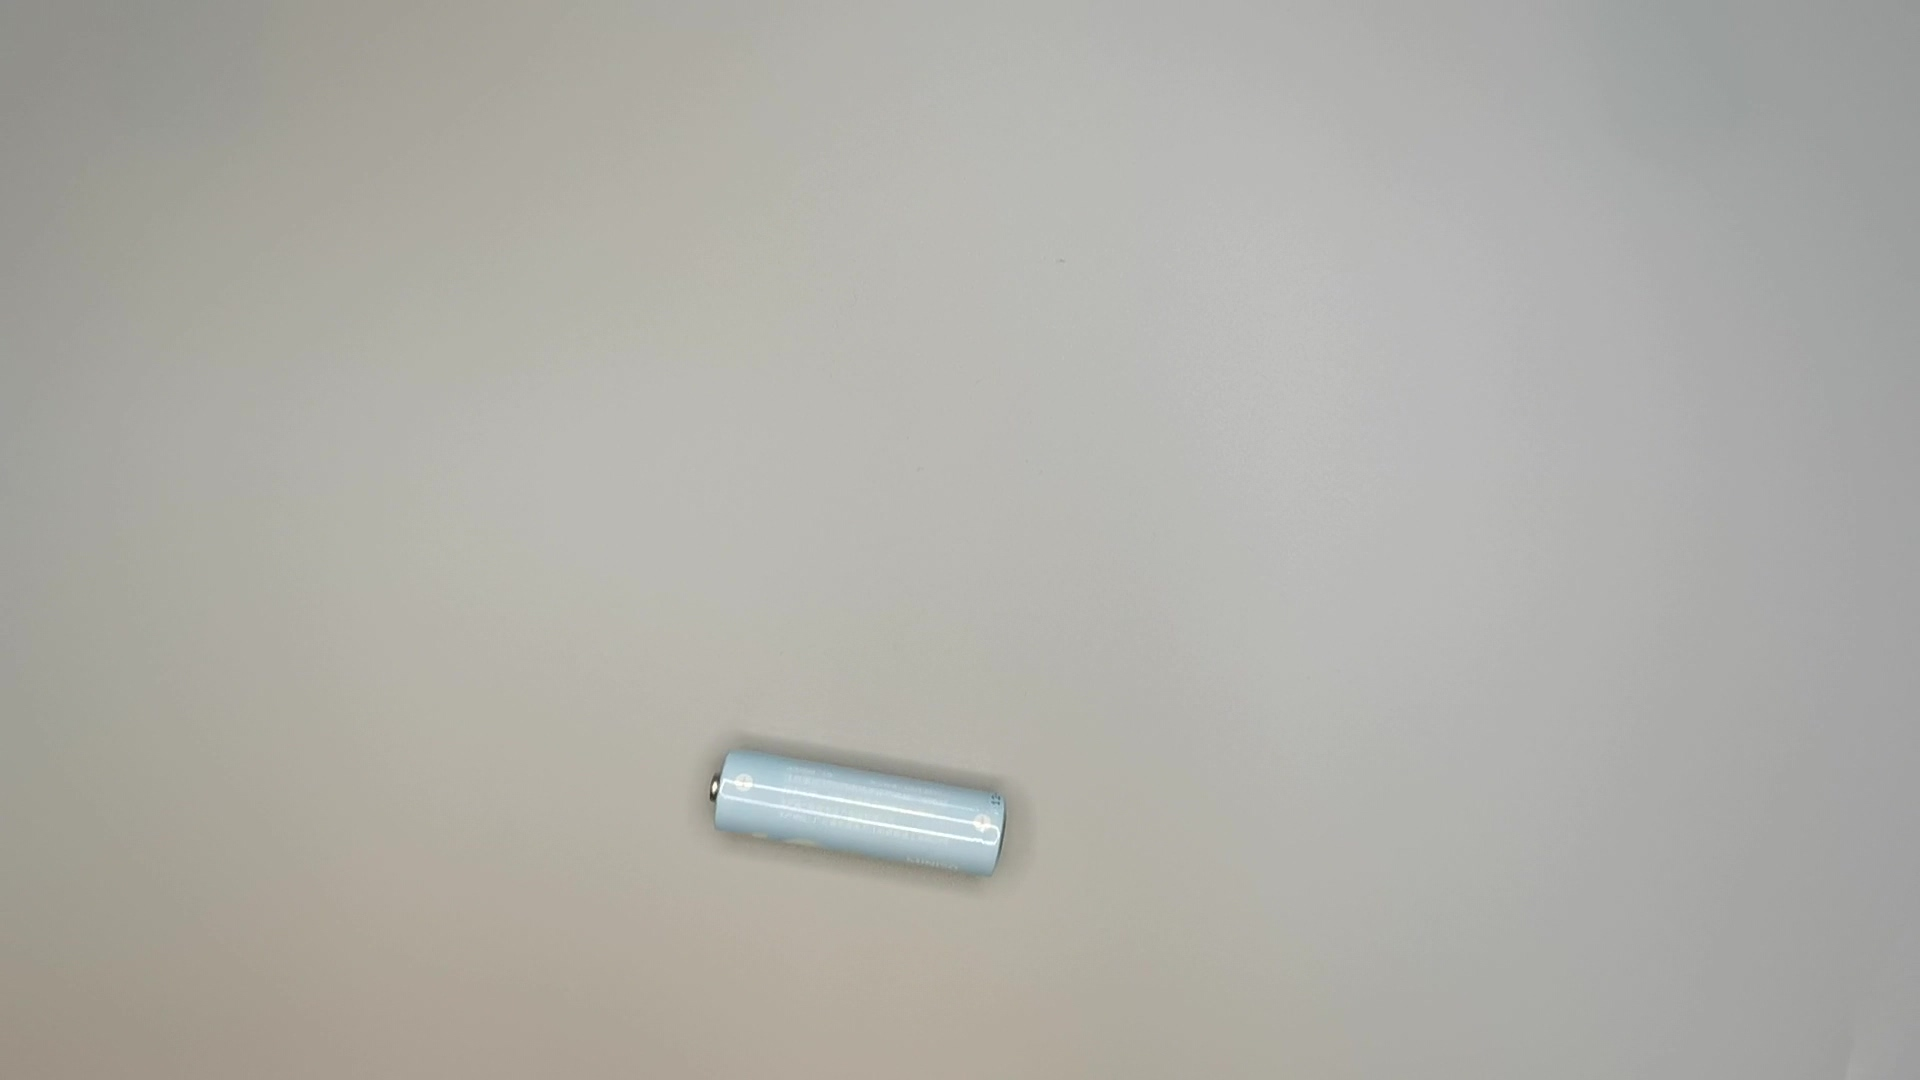battery: (708, 742, 1018, 887)
